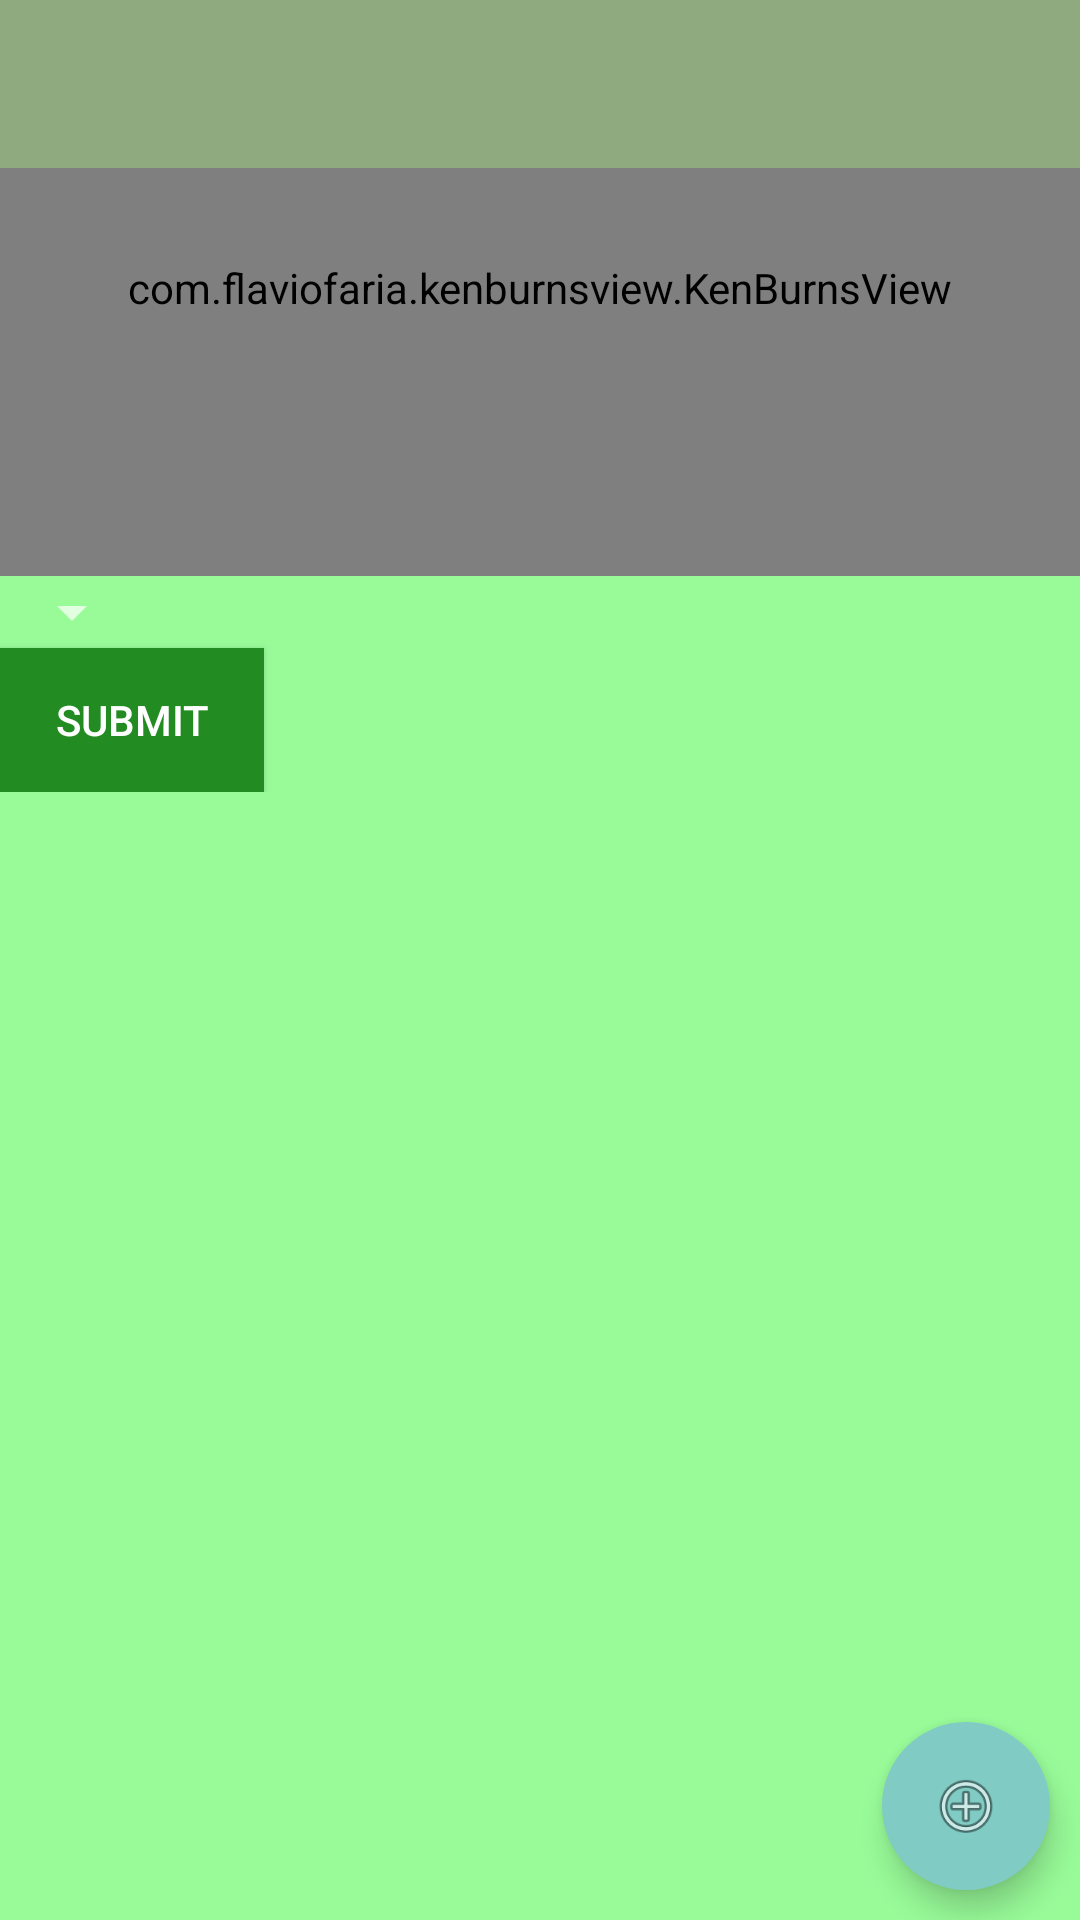

Named icons in this screenshot (1080px×1920px) and their centers, [x,y]:
add: [966,1806]
